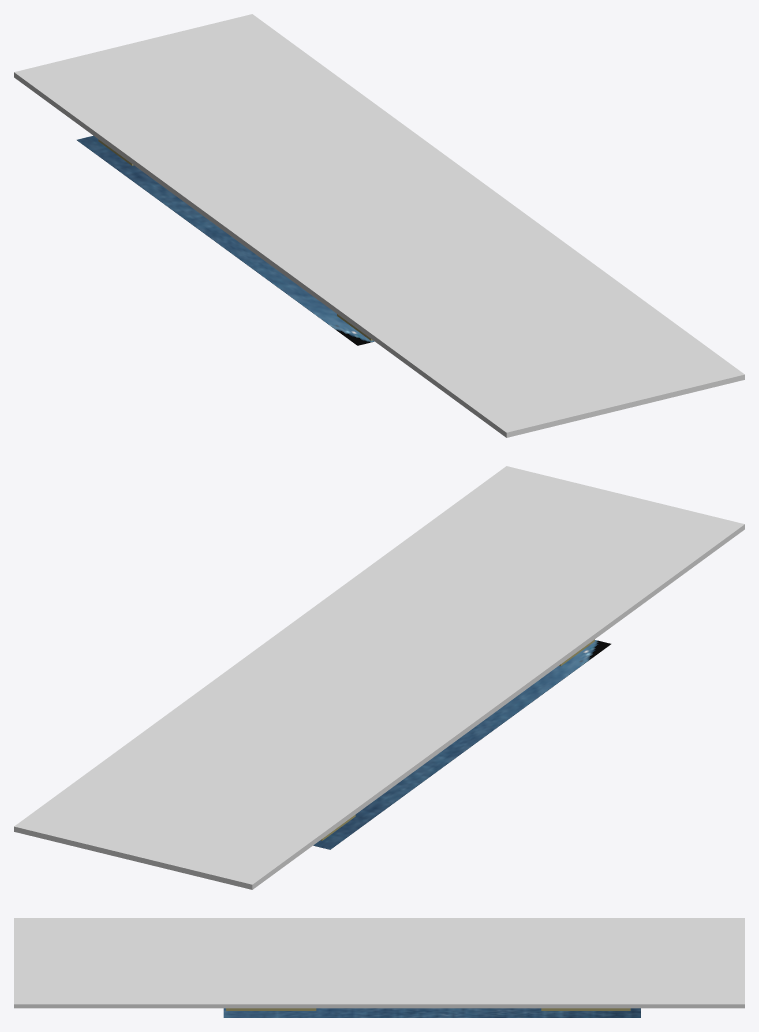
The model's file is inside hotel 0.00001.glb.
3 views of the same model, one above another, from view 1: azimuth 30°, elevation 25°; view 2: azimuth 150°, elevation 25°; view 3: azimuth 270°, elevation 25° (orthographic). The views are drawn at different scales.
Visible parts, largest first — view 1: Cube, floor-col; view 2: Cube, floor-col; view 3: Cube, floor-col, layout-col.
Boxes of the visible parts, x1=… form: Cube: x1=14, y1=14, x2=744, y2=437; floor-col: x1=77, y1=135, x2=374, y2=345; Cube: x1=14, y1=466, x2=744, y2=889; floor-col: x1=313, y1=640, x2=610, y2=849; Cube: x1=14, y1=918, x2=744, y2=1008; floor-col: x1=223, y1=1008, x2=640, y2=1017; layout-col: x1=226, y1=1008, x2=630, y2=1010.
Bounding box in the file's own units: 101 × 5.96 × 340.
2 materials, 2 textured.
